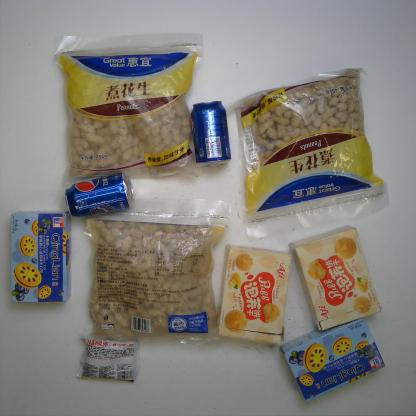Dessert: (290, 222, 388, 334), (274, 315, 388, 406), (210, 238, 294, 350), (6, 206, 75, 308), (74, 333, 137, 381)
Dried Food: (226, 66, 395, 242), (50, 31, 214, 189), (79, 196, 233, 351)
Drink: (184, 92, 238, 167), (64, 167, 138, 220)
